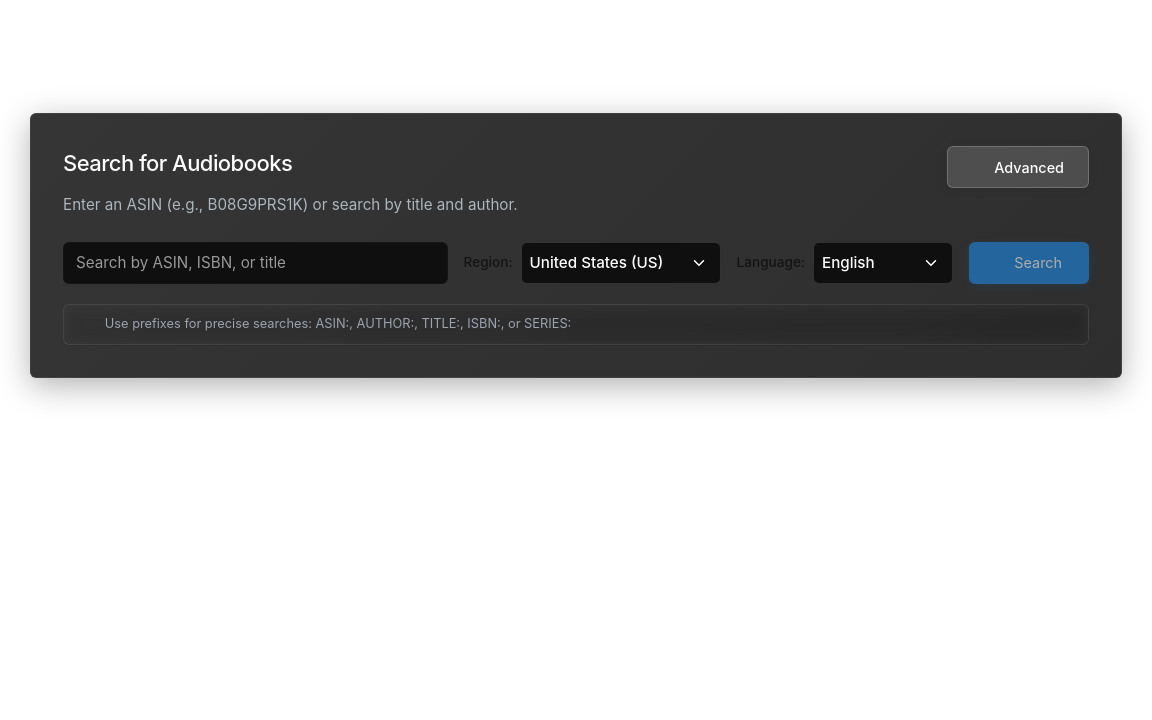
Test: AddNewView pagination › shows language options in the add new search selects
The image size is (1152, 720).
Expected: the dropdown with class "language-select" is shown, [813,242,953,284]
Expected: the dropdown with id "region-select" shows "United States (US)", [521,242,721,284]
Click the button with class "advanced-btn" at (1018, 167), box [947,146,1089,188]
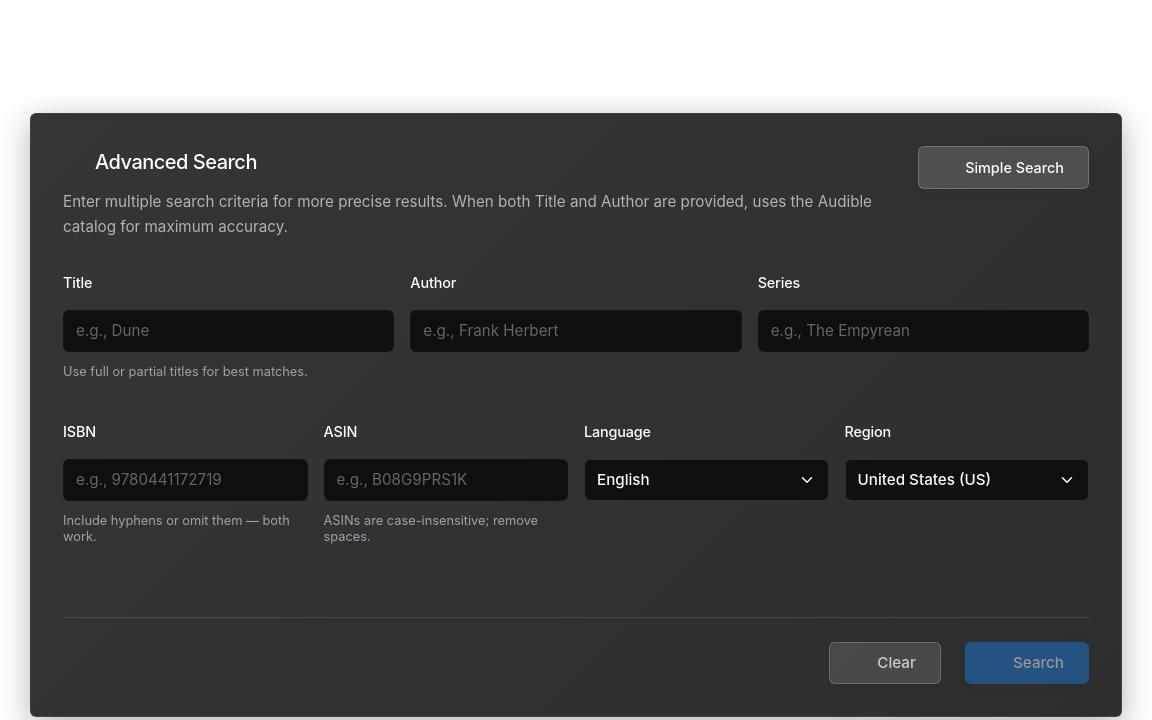
Expected: the label "Language" is shown, [584,423,651,440]
Result: the dropdown with id "adv-language" is shown at [584,459,828,501]
Result: the dropdown with id "adv-region" shows "United States (US)" at [844,459,1089,501]
